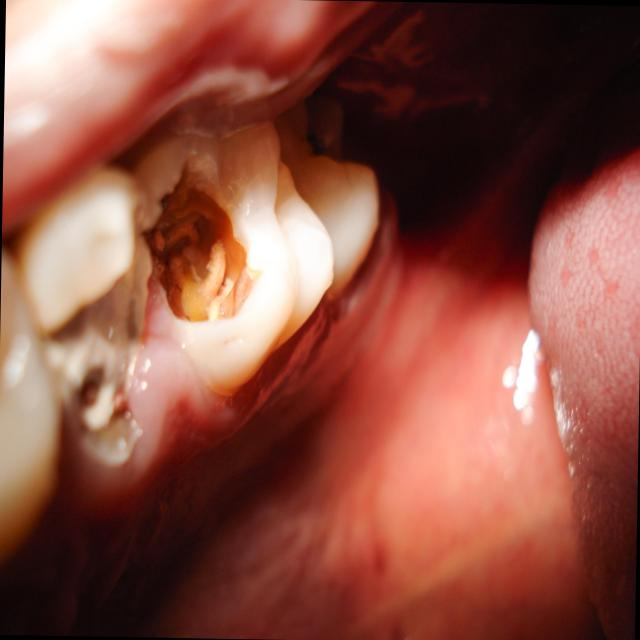Cavity: (39, 190, 162, 467), (143, 161, 261, 323)
Tooth: (135, 121, 335, 397), (17, 169, 163, 467)
